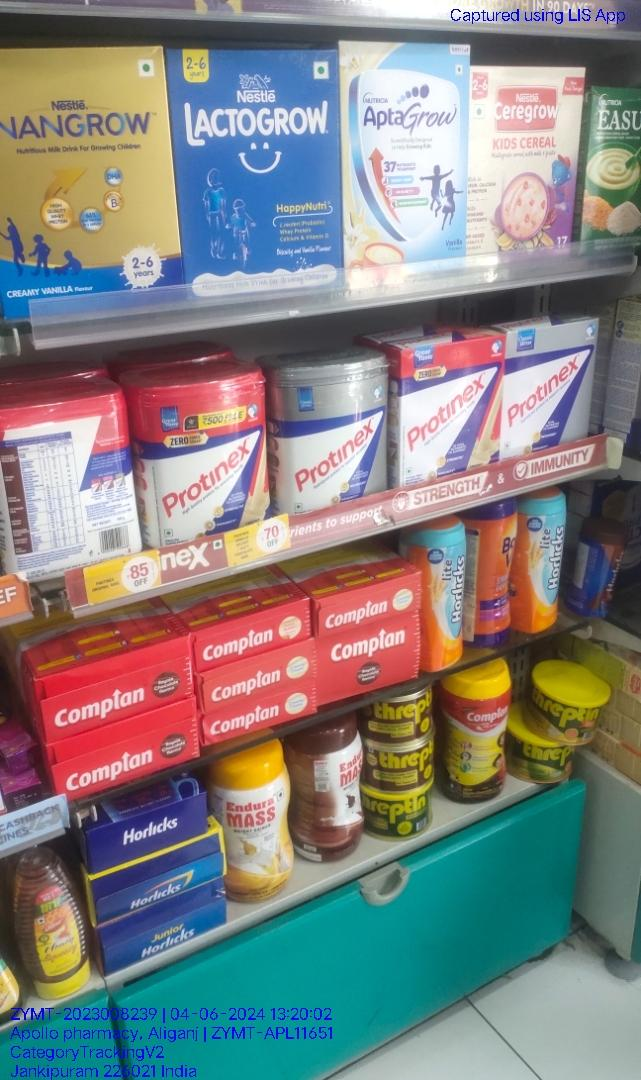HORLICKS_LITE_REGULAR_MALT_500_GM_JAR: (516, 488, 567, 633), (416, 518, 463, 669)
PROTINEX_ORIGINAL_400_G_JAR: (274, 353, 390, 516)
PROTINEX_VANILLA_400_G_JAR: (139, 369, 267, 548)
